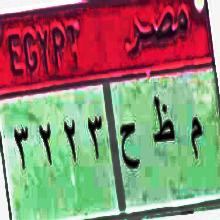2: (61, 112, 79, 176), (38, 118, 52, 169)
3: (86, 108, 104, 166), (13, 124, 30, 174)
7aa: (118, 115, 140, 174)
Thaa: (150, 94, 178, 150)
meem: (187, 116, 204, 165)
